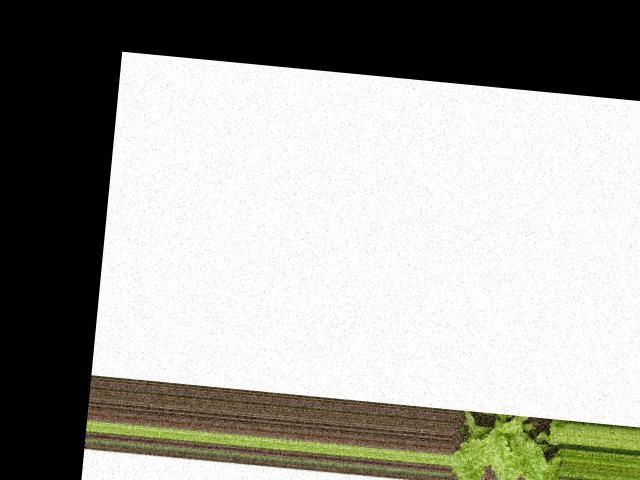lettuce: (449, 404, 567, 480)
